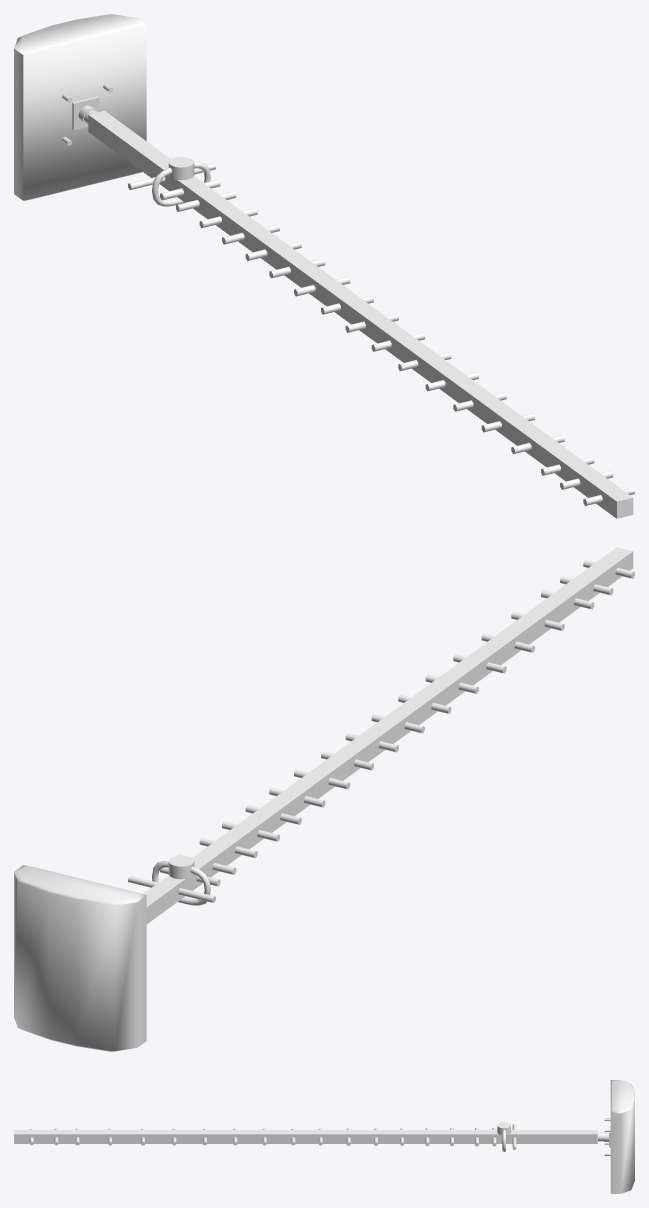
File: basestation_antenna.visual.glb
3 renders of one model, top to bottom at view 1: azimuth 30°, elevation 25°; view 2: azimuth 150°, elevation 25°; view 3: azimuth 270°, elevation 25°, orthographic. The views are drawn at different scales.
Visible parts, largest first — view 1: basestation_antenna.visual.001; view 2: basestation_antenna.visual.001; view 3: basestation_antenna.visual.001.
Boxes of the visible parts, box(x1,y1,x2,y2) form: basestation_antenna.visual.001: box(14, 14, 634, 518); basestation_antenna.visual.001: box(14, 547, 634, 1051); basestation_antenna.visual.001: box(14, 1080, 634, 1193).
Size of the model in its own units: 0.121 by 0.1401 by 0.9528.
Materials: 1 (1 with a texture image).
